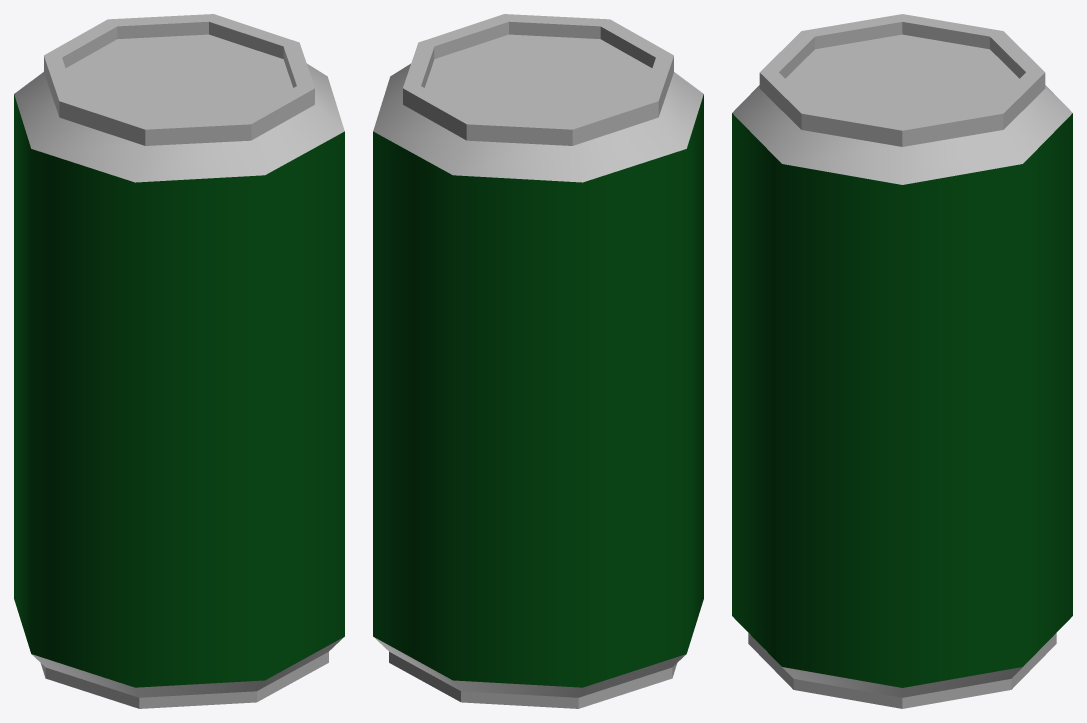
Rendered from Unwrapped_can1.fbx.
3 views of the same model, side by side, from view 1: azimuth 30°, elevation 25°; view 2: azimuth 150°, elevation 25°; view 3: azimuth 270°, elevation 25° (orthographic).
Parts seen in each view (by area): view 1: Cylinder013; view 2: Cylinder013; view 3: Cylinder013.
Boxes of the visible parts, x1,y1,x2,y2 form: Cylinder013: (14, 14, 344, 708); Cylinder013: (373, 14, 703, 708); Cylinder013: (732, 14, 1072, 708).
Size of the model in its own units: 17.79 by 33.06 by 17.79.
